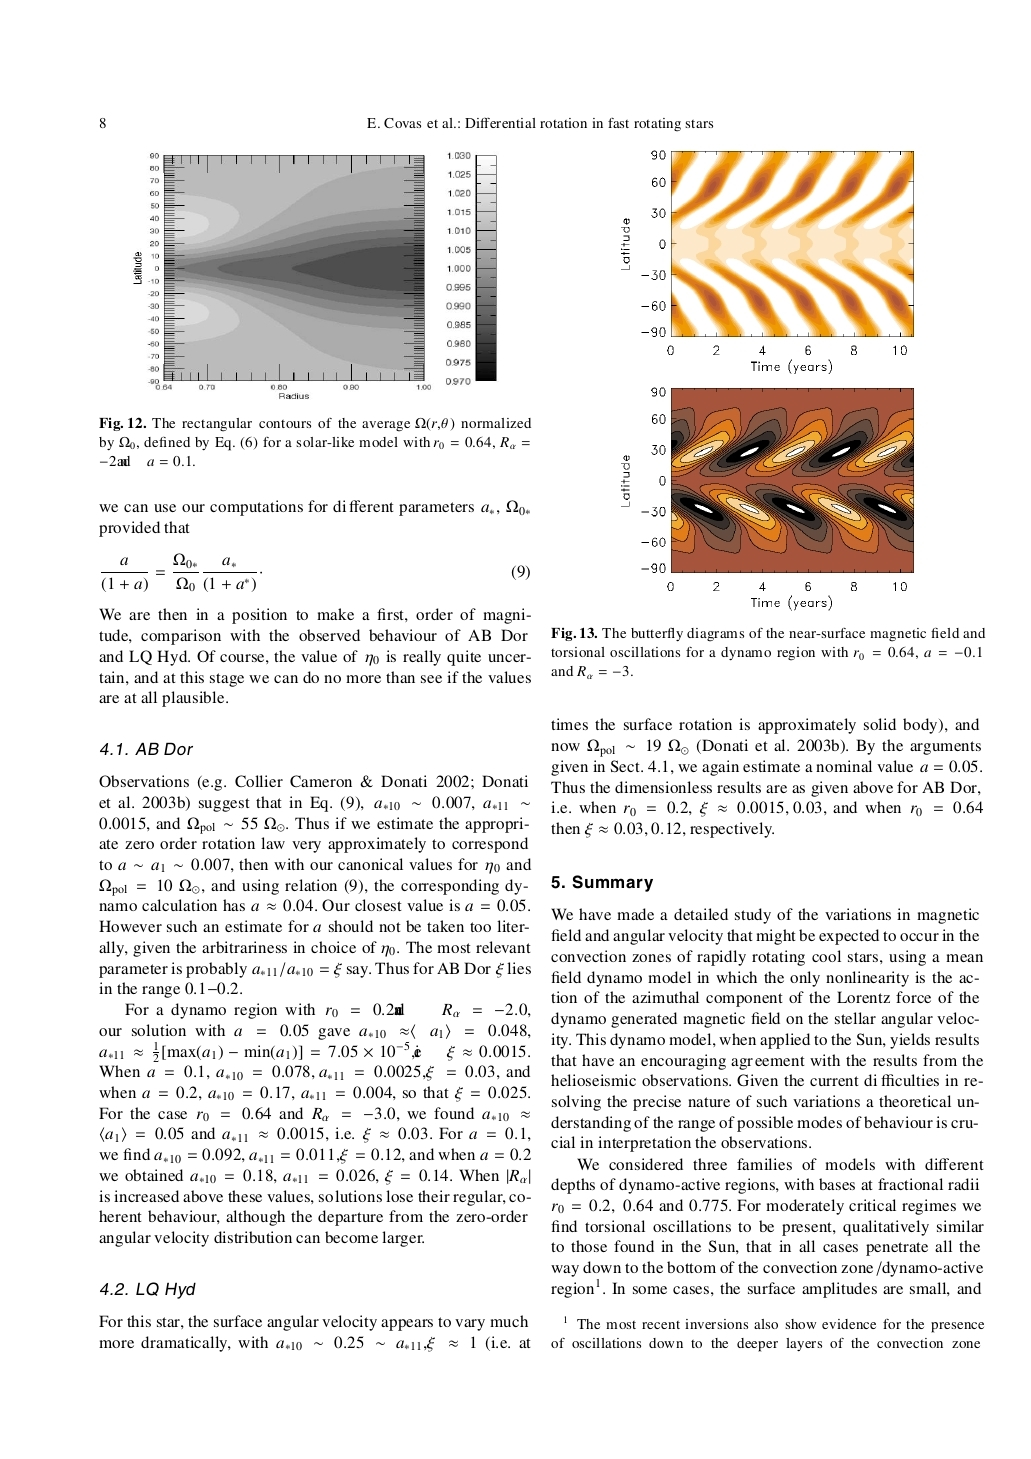figure: (133, 152, 497, 399), (622, 149, 913, 373), (622, 387, 913, 610)
formula: (102, 552, 529, 592)
